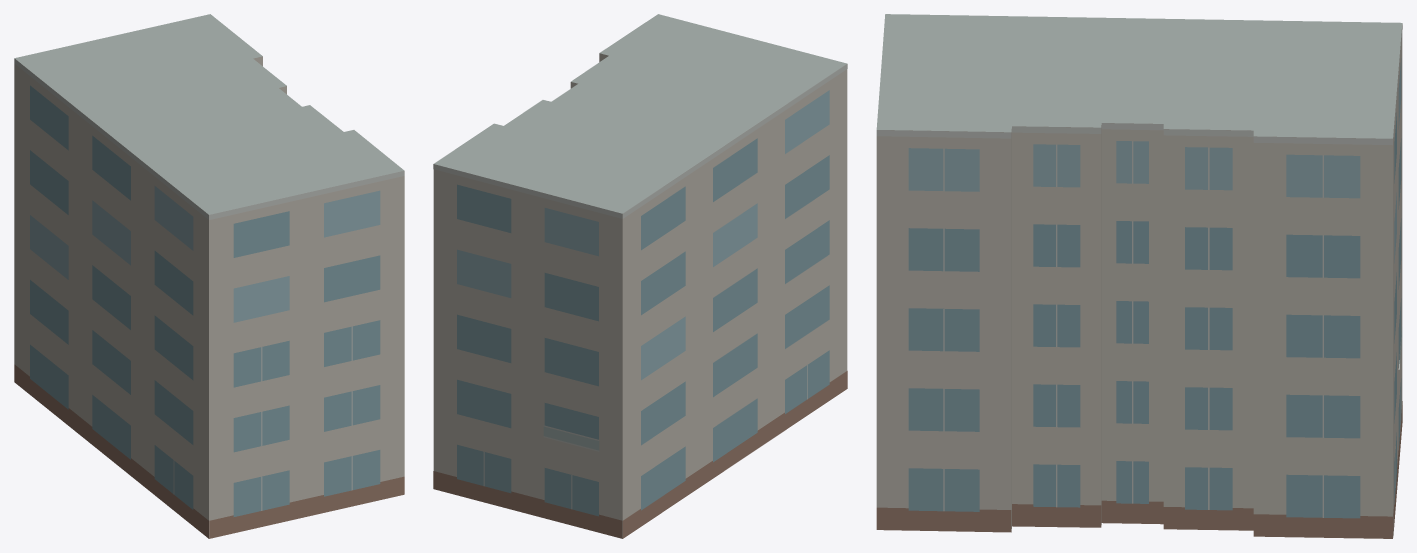
Rendered from survey-upis-32663347.glb.
3 views of the same model, side by side, from view 1: azimuth 30°, elevation 25°; view 2: azimuth 150°, elevation 25°; view 3: azimuth 270°, elevation 25° (orthographic). The views are drawn at different scales.
Visible parts, largest first — view 1: survey-upis-32663347.tmp; view 2: survey-upis-32663347.tmp; view 3: survey-upis-32663347.tmp.
Boxes of the visible parts, x1,y1,x2,y2 form: survey-upis-32663347.tmp: (14,14,404,538); survey-upis-32663347.tmp: (433,14,847,538); survey-upis-32663347.tmp: (876,14,1402,538).
Size of the model in its own units: 10.17 by 15.2 by 18.11.
